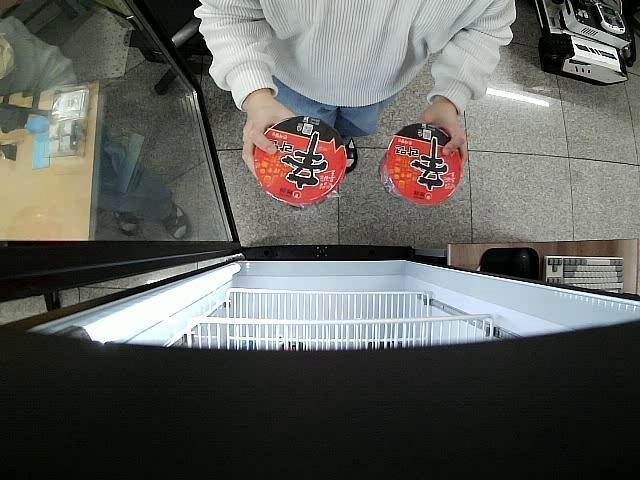01_ShinRamen_L: (253, 118, 345, 205), (377, 124, 462, 205)
